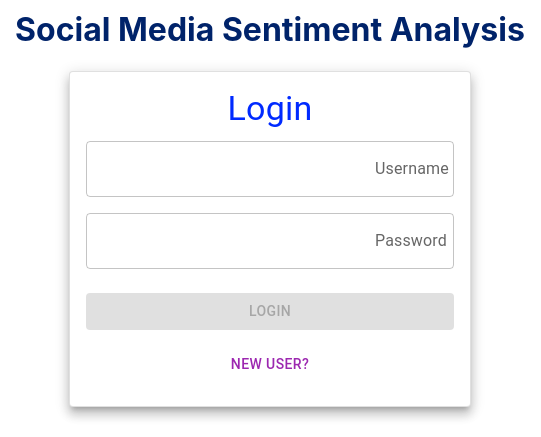
Test: LoginPage › disables submit button when fields are empty
Expected: the button with test id "Login" is disabled, [86,293,454,330]
Type "testuser" into the field labelled "Username" at (270, 169), box [86,141,454,197]
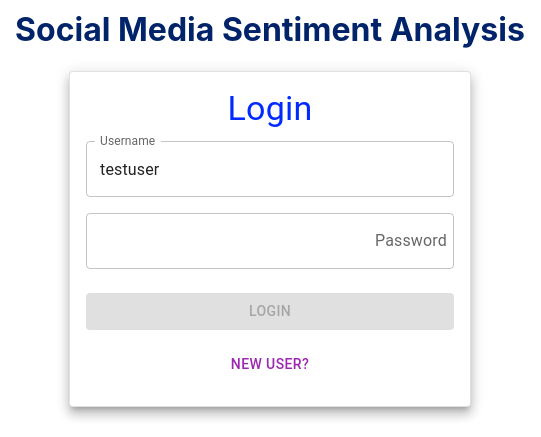
Expected: the button with test id "Login" is disabled, [86,293,454,330]
Type "testpassword" into the password field labelled "Password" at (270, 241), box [86,213,454,269]
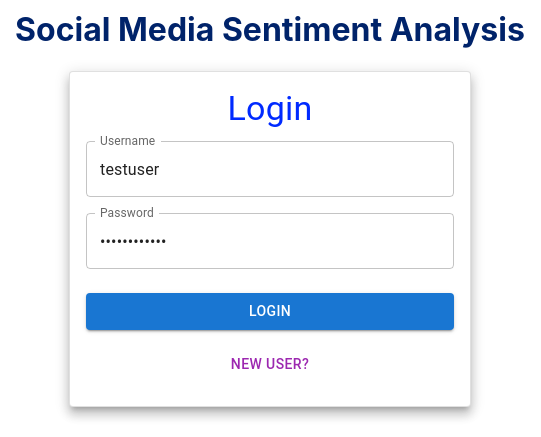
Expected: the button with test id "Login" is enabled, [86,293,454,330]
Clear the field labelled "Username" at (270, 169), box [86,141,454,197]
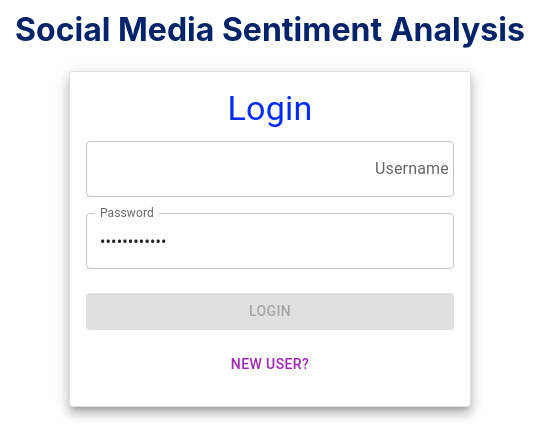
Expected: the button with test id "Login" is disabled, [86,293,454,330]
